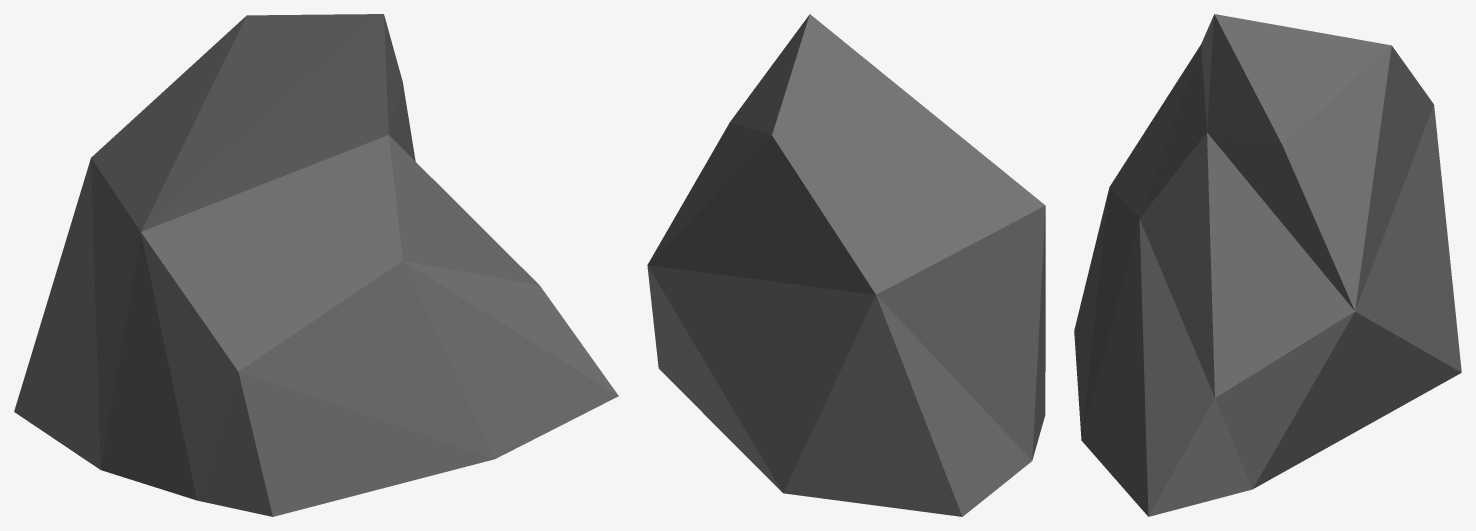
The model's file is Rock_1_14.fbx.
The picture shows the model from 3 angles, left to right: view 1: azimuth 30°, elevation 25°; view 2: azimuth 150°, elevation 25°; view 3: azimuth 270°, elevation 25°; orthographic projection. The views are drawn at different scales.
Parts seen in each view (by area): view 1: Rock_1_14; view 2: Rock_1_14; view 3: Rock_1_14.
Part boxes in pixels (left/top/right/bottom): Rock_1_14: left=14, top=14, right=618, bottom=516; Rock_1_14: left=647, top=14, right=1045, bottom=516; Rock_1_14: left=1074, top=14, right=1461, bottom=516.
Bounding box in the file's own units: 130 × 108 × 93.29.
